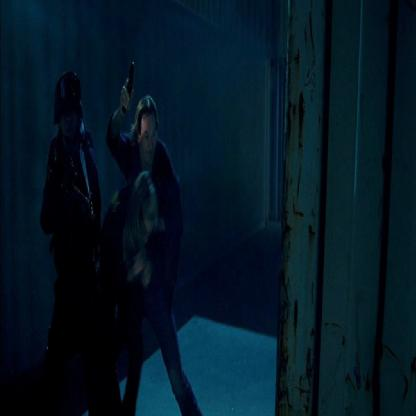Gun: (47, 154, 97, 247), (120, 57, 134, 114)
